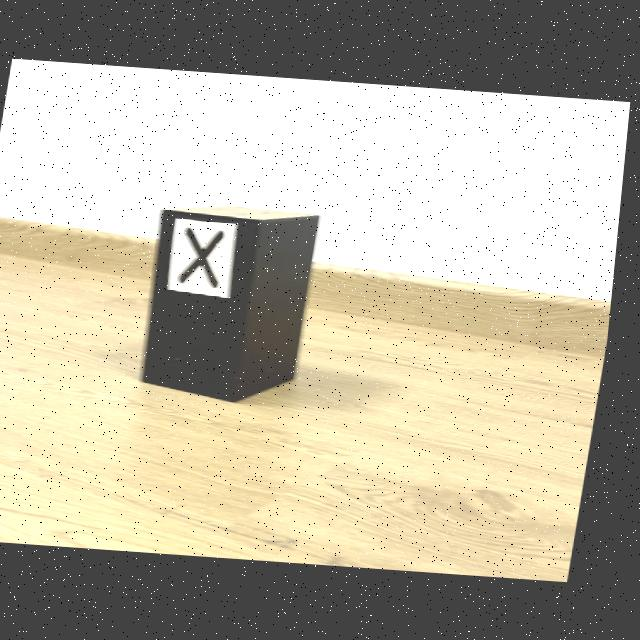X: (185, 227, 228, 287)
